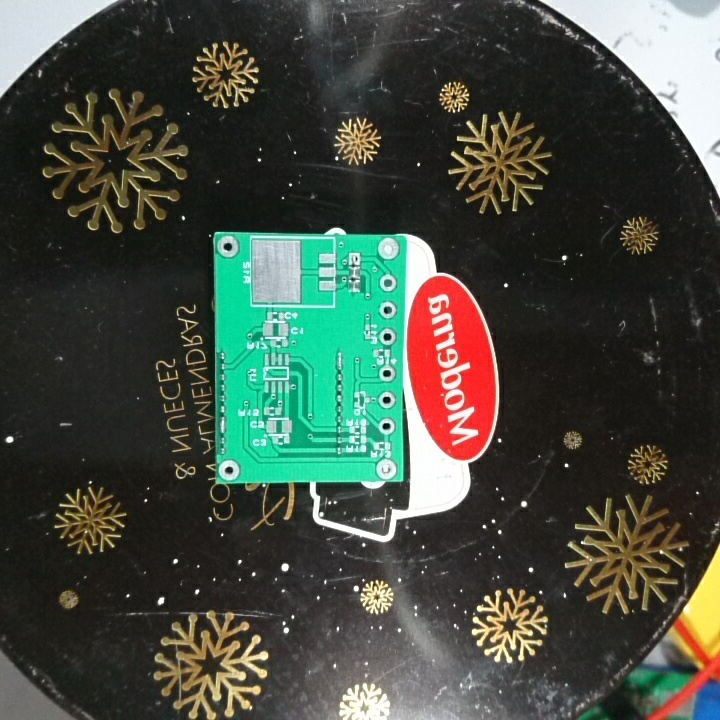F: (215, 233, 241, 261), (373, 456, 399, 483), (376, 236, 401, 263), (217, 459, 244, 483), (376, 324, 399, 350), (376, 415, 399, 440), (376, 272, 401, 294), (376, 387, 398, 412), (376, 363, 399, 386), (378, 300, 399, 321), (345, 250, 364, 268)
P: (333, 346, 345, 373), (216, 413, 230, 435)
